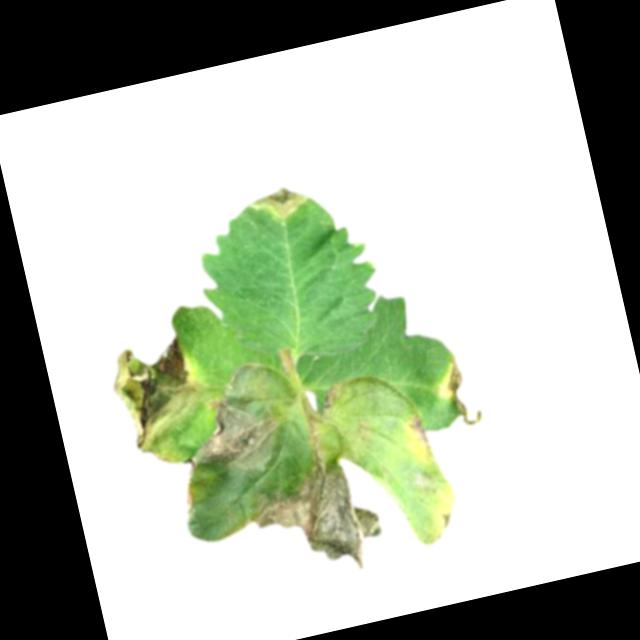Late_blight: (252, 448, 389, 589), (101, 330, 219, 472), (178, 360, 291, 483), (432, 356, 485, 431), (247, 180, 313, 222), (174, 460, 208, 515), (405, 410, 432, 452), (316, 384, 345, 419)
